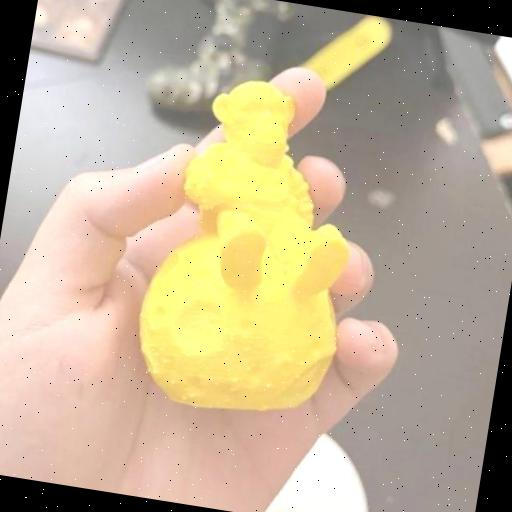blobs: (205, 310, 219, 325), (160, 355, 173, 368), (148, 364, 161, 377), (228, 374, 242, 385), (228, 330, 240, 342), (167, 376, 178, 388), (214, 344, 226, 354), (244, 364, 254, 374), (264, 380, 275, 389), (302, 327, 310, 339), (296, 358, 306, 367), (151, 350, 162, 358), (242, 345, 250, 355), (249, 360, 258, 368), (293, 372, 302, 380)
